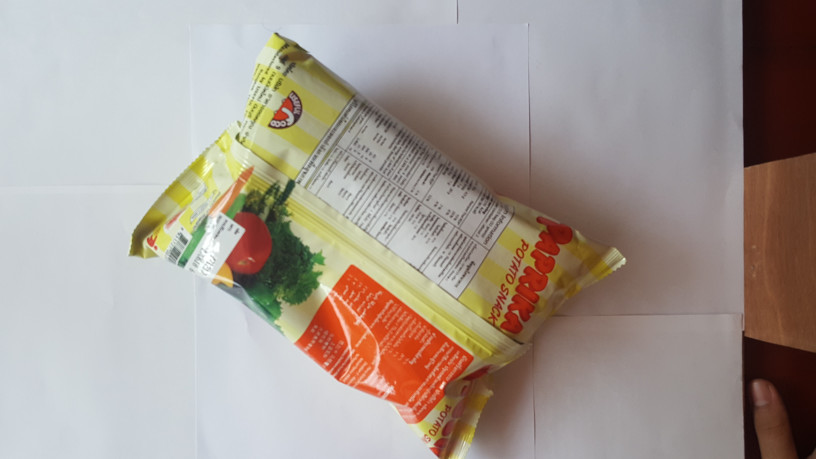paprika: (113, 18, 643, 459)
